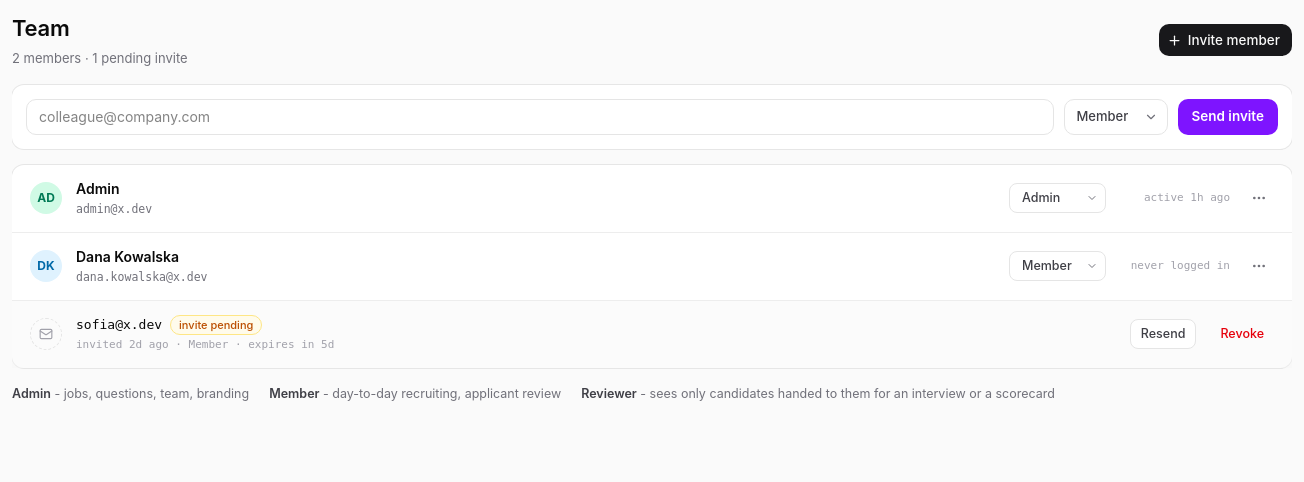
TeamPage › anonymize 409 detail surfaces in the alert
expect the text "dana.kowalska@x.dev" is shown: met, box x1=76 y1=270 x2=208 y2=284
Click the button named "Actions for dana.kowalska@x.dev".
click(1259, 266)  # box x1=1244 y1=251 x2=1274 y2=281
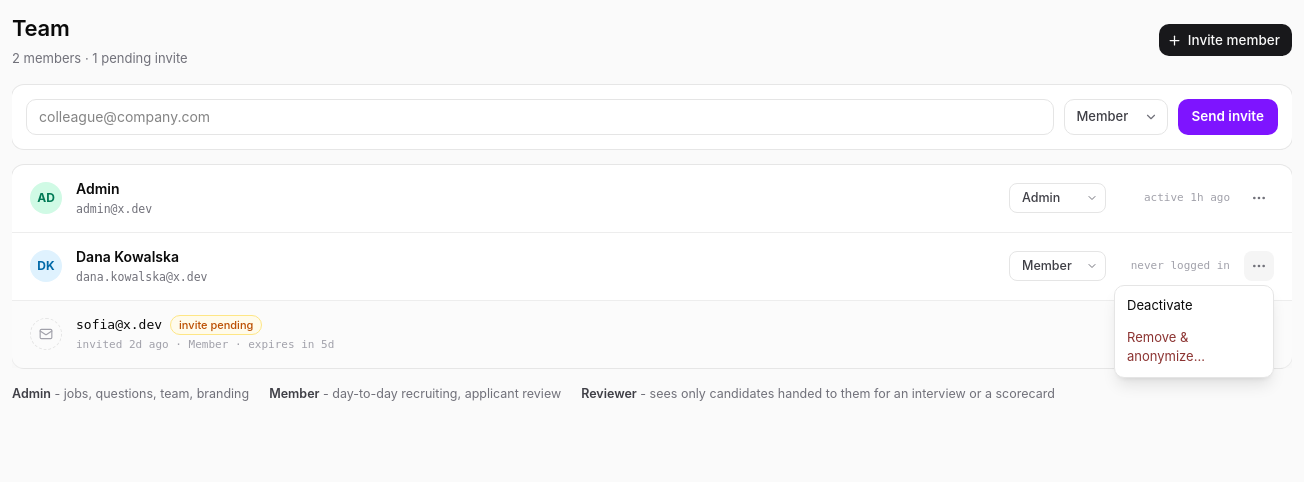
Click the menu item "Remove & anonymize…".
click(1166, 346)  # box x1=1127 y1=328 x2=1205 y2=364
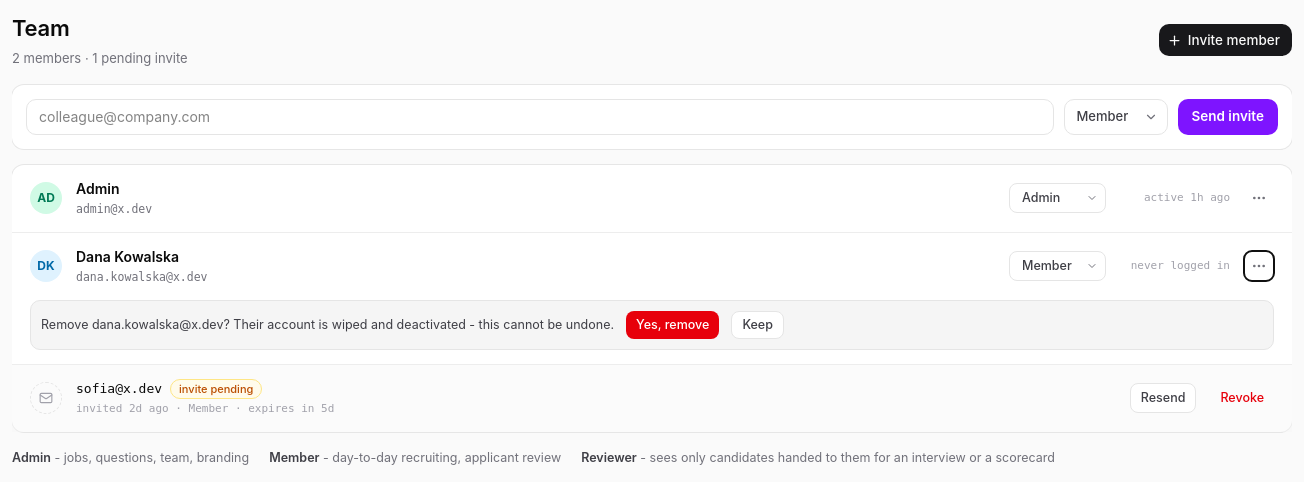
Click the button "Yes, remove".
click(673, 325)  # box x1=626 y1=311 x2=719 y2=339
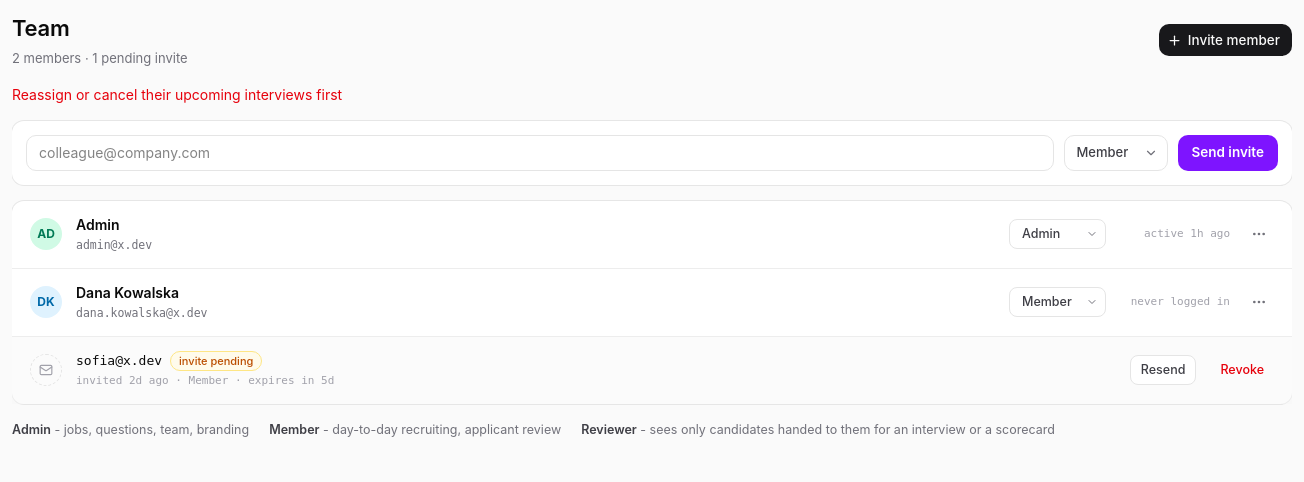
expect the text "Reassign or cancel their upcoming interviews first" is shown: met, box x1=12 y1=86 x2=342 y2=102
